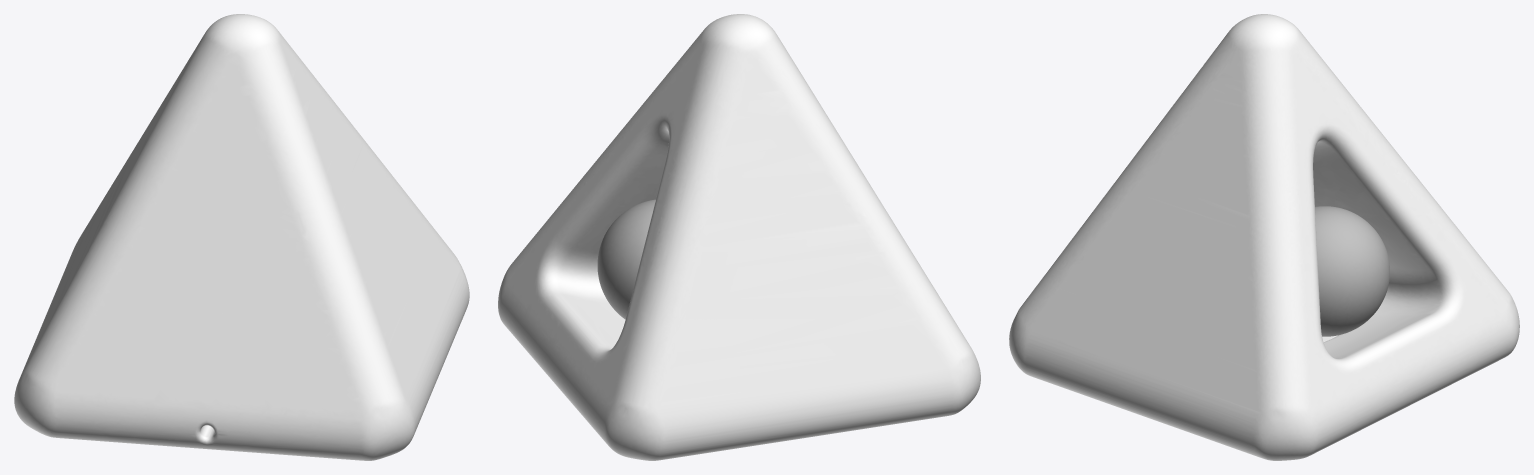
File: lamp.glb
3 views of the same model, side by side, from view 1: azimuth 30°, elevation 25°; view 2: azimuth 150°, elevation 25°; view 3: azimuth 270°, elevation 25° (orthographic). The views are drawn at different scales.
Visible parts, largest first — view 1: Gravity; view 2: Gravity; view 3: Gravity.
Boxes of the visible parts, box(x1,y1,x2,y2) form: Gravity: box(14, 14, 469, 460); Gravity: box(498, 14, 980, 460); Gravity: box(1009, 14, 1519, 460).
Bounding box in the file's own units: 235 × 175 × 235.
1 material, 1 textured.
